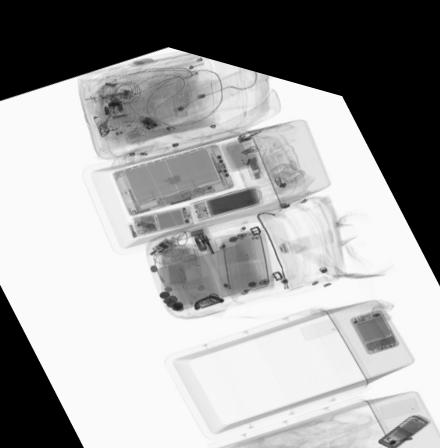Powerbank: (190, 171, 261, 210)
